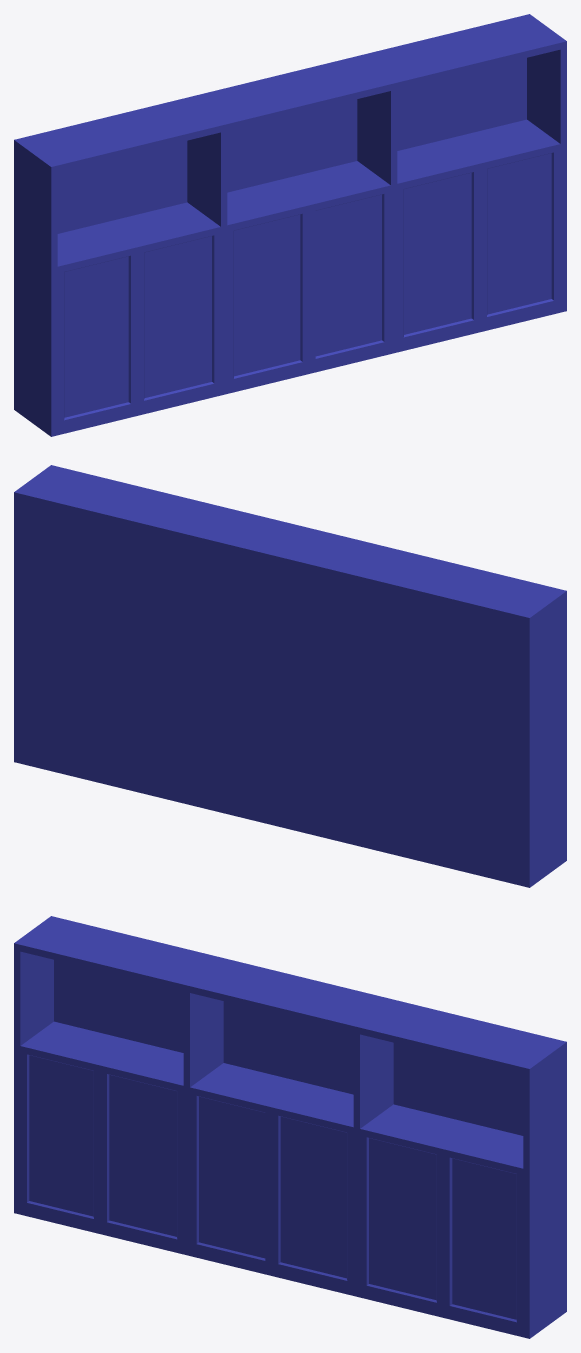
The model's file is bookshelfB_8x4x1.FBX.
3 renders of one model, top to bottom at view 1: azimuth 30°, elevation 25°; view 2: azimuth 150°, elevation 25°; view 3: azimuth 330°, elevation 25°, orthographic.
Parts seen in each view (by area): view 1: bookshelfB_8x4x1; view 2: bookshelfB_8x4x1; view 3: bookshelfB_8x4x1.
Boxes of the visible parts, left/top/right/bottom form: bookshelfB_8x4x1: left=14, top=14, right=566, bottom=436; bookshelfB_8x4x1: left=14, top=465, right=566, bottom=887; bookshelfB_8x4x1: left=14, top=916, right=566, bottom=1338.
Bounding box in the file's own units: 8 × 4 × 1.
